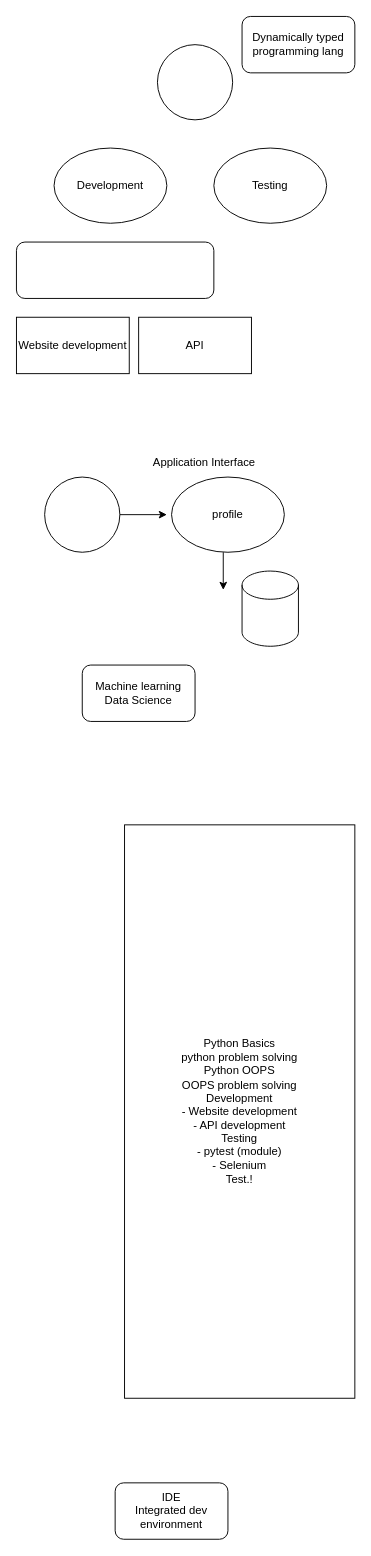
Image size: 371x1556. Some labels were removed from this diagram. Here are the shapes that lost their labels. From the top down, the centre of each, then its label:
At (195,82): "Python".
At (115,269): "1) Web application development 2) Desktop application development".
At (82,514): "login".
